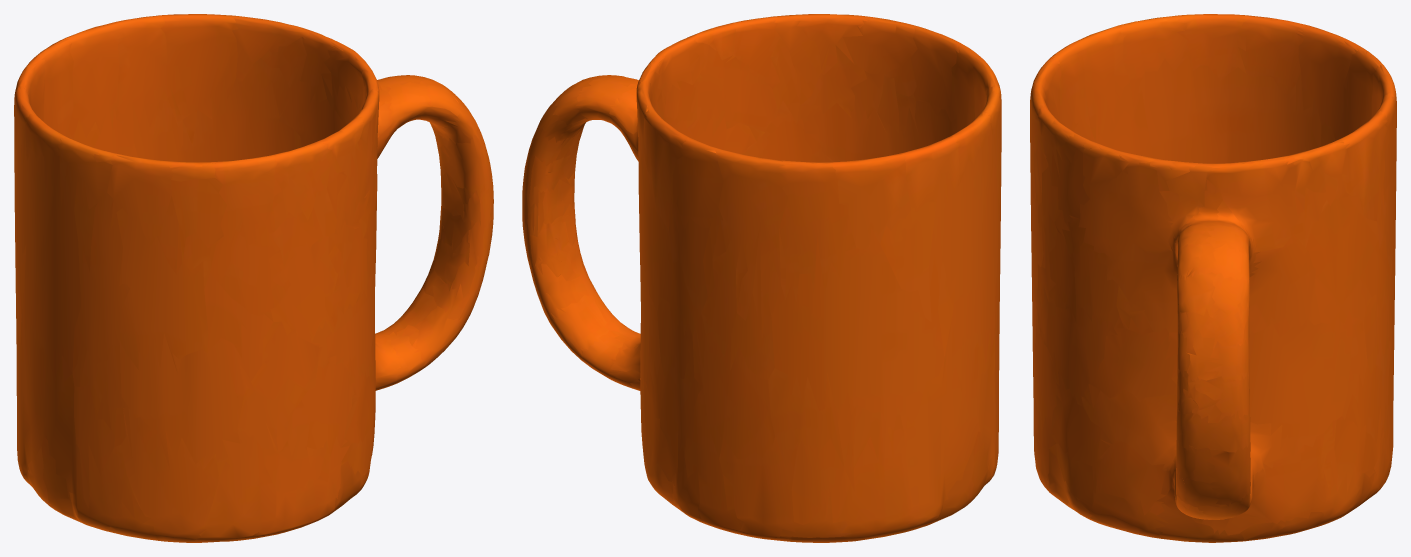
File: mug.glb
3 views of the same model, side by side, from view 1: azimuth 30°, elevation 25°; view 2: azimuth 150°, elevation 25°; view 3: azimuth 270°, elevation 25° (orthographic).
Parts seen in each view (by area): view 1: Mesh_0; view 2: Mesh_0; view 3: Mesh_0.
Boxes of the visible parts, left/top/right/bottom form: Mesh_0: left=14, top=14, right=493, bottom=542; Mesh_0: left=522, top=14, right=1001, bottom=542; Mesh_0: left=1030, top=14, right=1396, bottom=542.
Size of the model in its own units: 1.9 by 1.57 by 1.35.
Materials: 1 (1 with a texture image).
